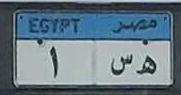1: (47, 45, 61, 78)
haa: (136, 55, 158, 80)
seen: (109, 52, 134, 78)
